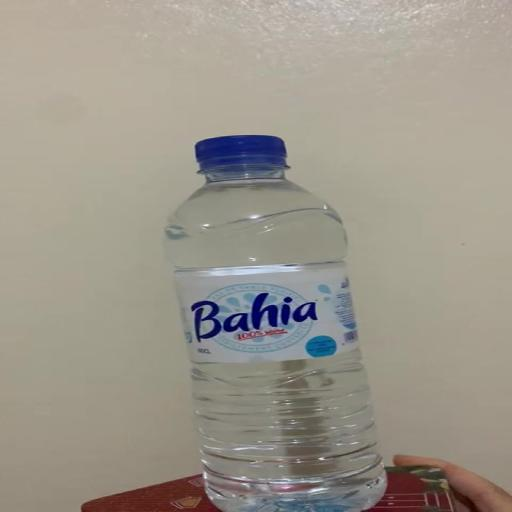bouteille conformite: (164, 128, 415, 511)
